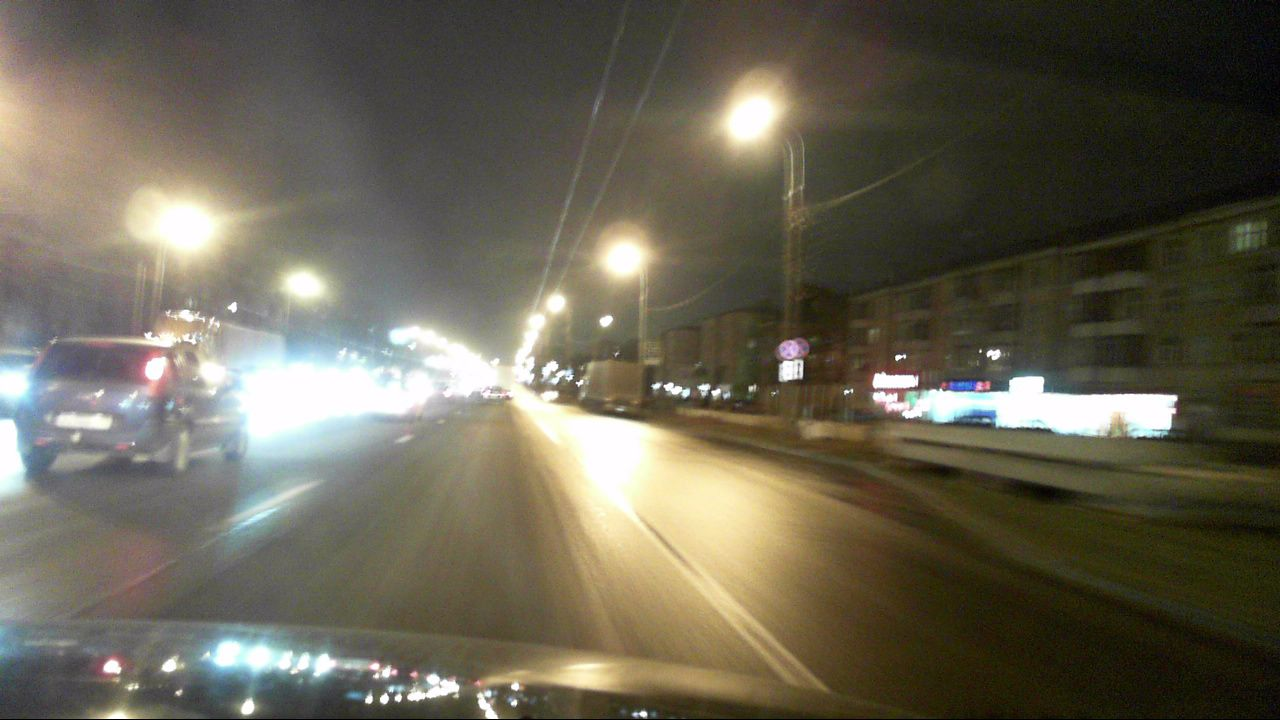No Parking: (779, 339, 799, 359)
